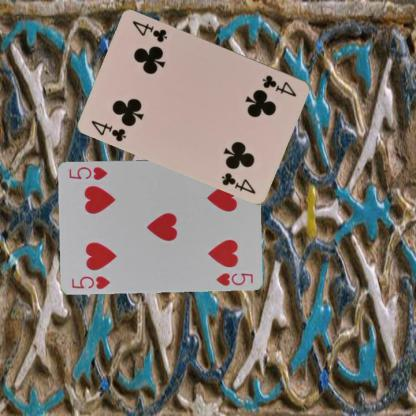4c: (89, 117, 128, 143), (260, 72, 298, 98)
5h: (70, 272, 112, 290)
